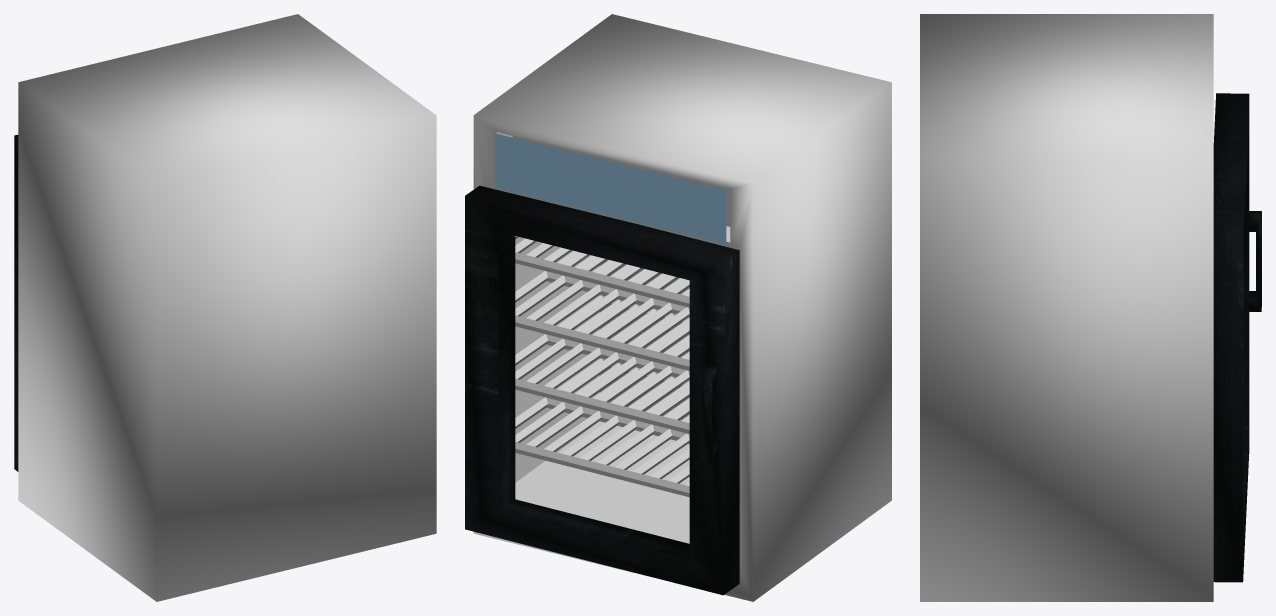
File: Fridges.fbx
3 renders of one model, left to right at view 1: azimuth 30°, elevation 25°; view 2: azimuth 150°, elevation 25°; view 3: azimuth 270°, elevation 25°, orthographic. The views are drawn at different scales.
Parts seen in each view (by area): view 1: FridgeDoor; view 2: FridgeDoor; view 3: FridgeDoor.
Part boxes in pixels (x1,y1,x2,y2): FridgeDoor: (14, 14, 436, 601); FridgeDoor: (465, 14, 891, 601); FridgeDoor: (920, 14, 1261, 601).
Size of the model in its own units: 140 by 200 by 140.
3 materials, 1 textured.
